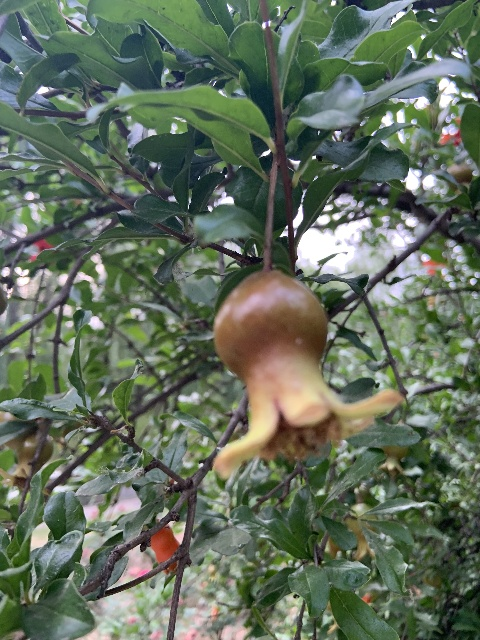bud: (151, 519, 180, 574)
early-fruit: (210, 270, 405, 478), (0, 434, 53, 496)
mid-growth: (377, 444, 409, 478), (446, 163, 473, 192)
